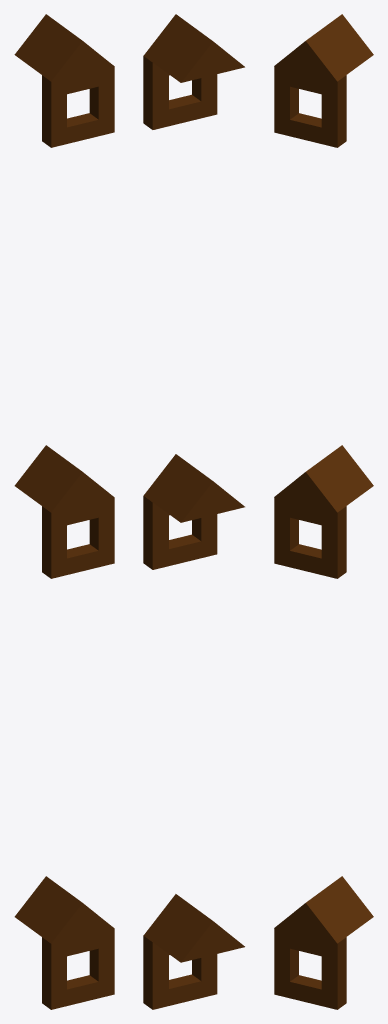
File: torreVentana.obj
3 views of the same model, side by side, from view 1: azimuth 30°, elevation 25°; view 2: azimuth 210°, elevation 25°; view 3: azimuth 330°, elevation 25° (orthographic). The views are drawn at different scales.
Visible parts, largest first — view 1: cone.009; view 2: cone.009; view 3: cone.009.
Part boxes in pixels (<box>): cone.009: <box>14,14,114,1009</box>; cone.009: <box>143,14,244,1009</box>; cone.009: <box>274,14,373,1009</box>.
Bounding box in the file's own units: 2 × 29 × 2.
Materials: 6 (6 with a texture image).
